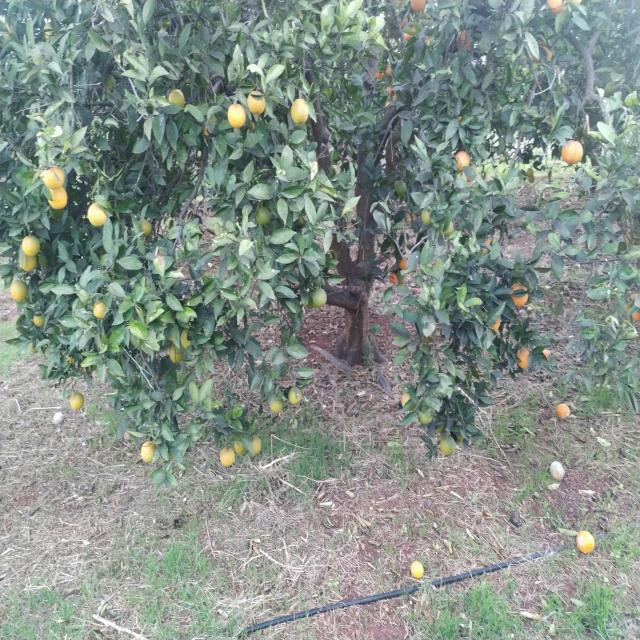Jeruk Belum Matang: (440, 438, 456, 458), (168, 89, 184, 109), (312, 288, 328, 307), (288, 386, 302, 407), (270, 396, 286, 414), (256, 207, 270, 227), (170, 344, 183, 365), (402, 392, 416, 410), (418, 411, 434, 426), (138, 219, 152, 236), (71, 392, 84, 410), (420, 208, 432, 226), (104, 74, 116, 92), (33, 311, 45, 326), (395, 180, 406, 196)
Jeruk Sudah Matang: (561, 140, 584, 164), (290, 98, 310, 125), (88, 203, 108, 228), (46, 187, 68, 209), (44, 166, 64, 190), (510, 282, 530, 306), (248, 91, 266, 116), (228, 104, 246, 128), (22, 235, 40, 258), (140, 441, 158, 464), (18, 255, 38, 274), (11, 280, 27, 303), (220, 448, 236, 468), (626, 298, 640, 320), (455, 152, 470, 172), (456, 31, 470, 52), (546, 0, 564, 15), (93, 301, 107, 320), (515, 348, 529, 366), (409, 0, 427, 12), (251, 436, 261, 454), (234, 440, 244, 456), (404, 28, 416, 41), (397, 256, 407, 268)
